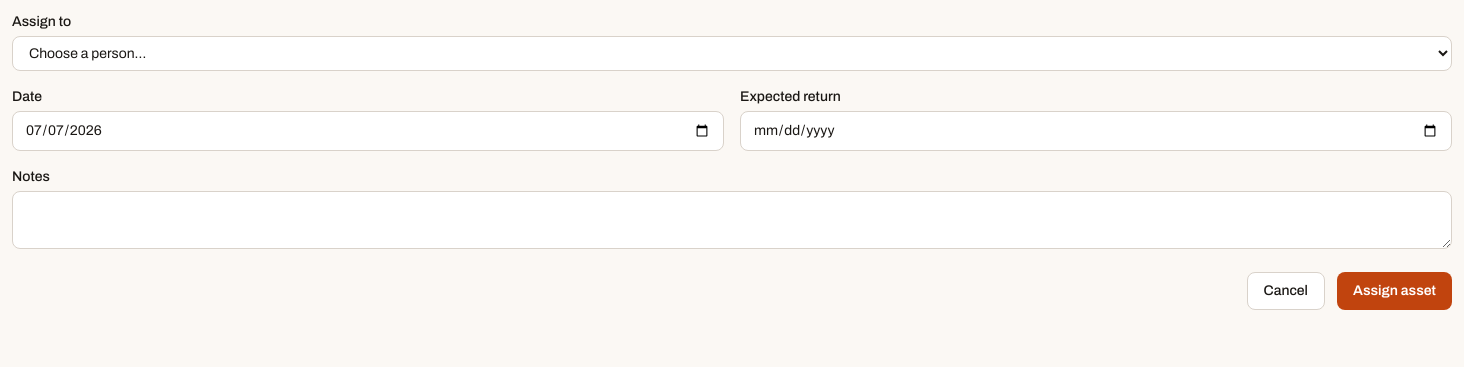
AssignForm › surfaces the one-open-assignment violation as a human sentence
The width and height of the screenshot is (1464, 367).
Select "Grace Mutasa" in the dropdown labelled "Assign to" at (732, 54), box x1=12 y1=36 x2=1452 y2=71
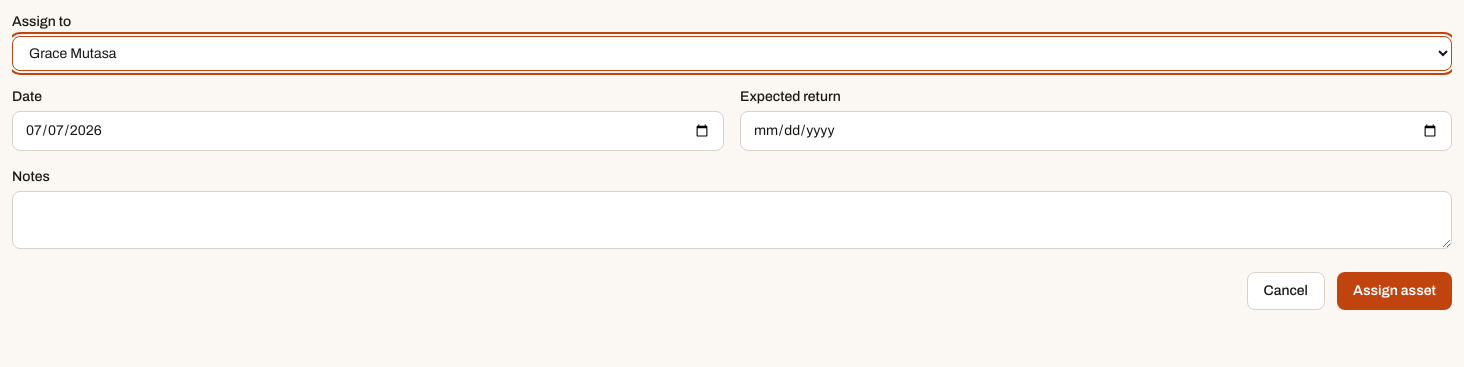
Click the button "Assign asset" at (1394, 291), box x1=1337 y1=272 x2=1452 y2=310
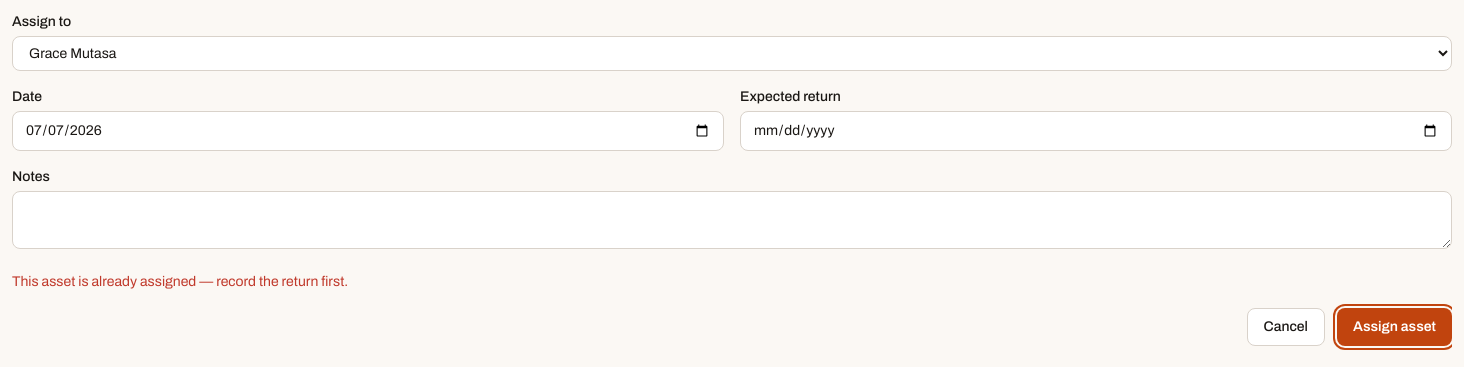
Now the message shows "already assigned", box x1=12 y1=274 x2=348 y2=289
